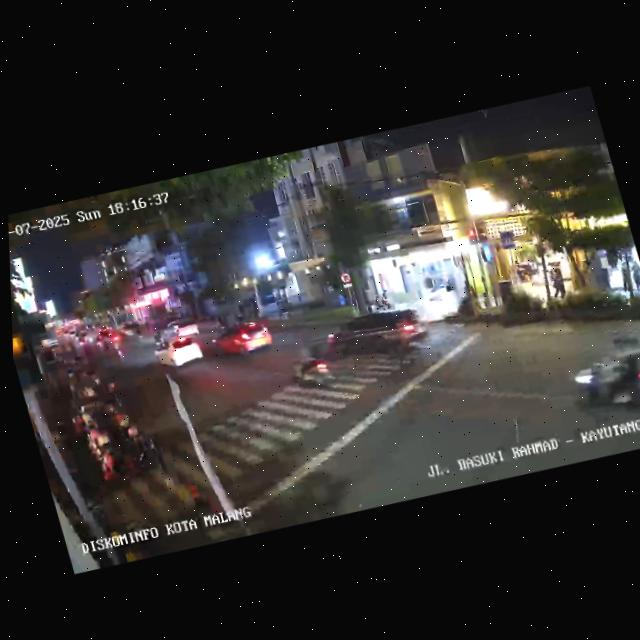car: (315, 298, 436, 380), (194, 314, 277, 371), (150, 329, 208, 377)
motorcycle: (562, 336, 640, 425), (284, 334, 338, 397), (109, 336, 126, 364)
person: (104, 375, 126, 413), (548, 267, 569, 304), (616, 262, 634, 296), (626, 259, 640, 292)
